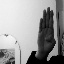b: (35, 5, 59, 57)
